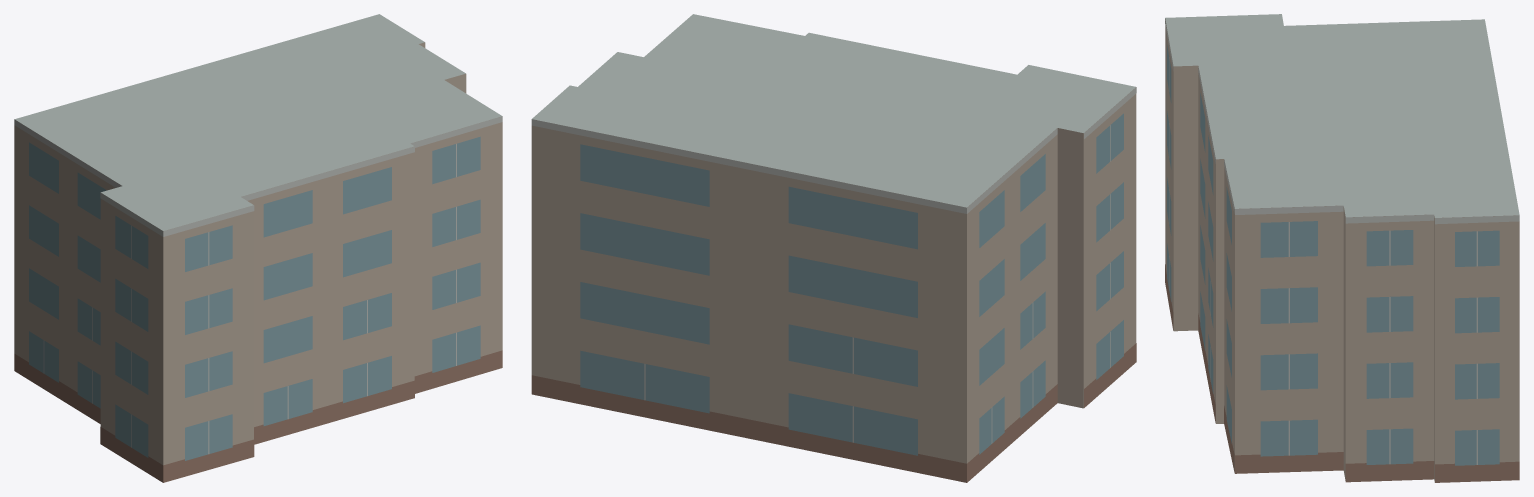
The model's file is survey-upis-32525857.glb.
The picture shows the model from 3 angles, left to right: view 1: azimuth 30°, elevation 25°; view 2: azimuth 150°, elevation 25°; view 3: azimuth 270°, elevation 25°; orthographic projection. The views are drawn at different scales.
Visible parts, largest first — view 1: survey-upis-32525857.tmp; view 2: survey-upis-32525857.tmp; view 3: survey-upis-32525857.tmp.
Part boxes in pixels (bbox=[...]): survey-upis-32525857.tmp: bbox=[14, 14, 502, 482]; survey-upis-32525857.tmp: bbox=[531, 14, 1136, 482]; survey-upis-32525857.tmp: bbox=[1165, 14, 1519, 482].
Size of the model in its own units: 17.19 by 10.4 by 12.62.
